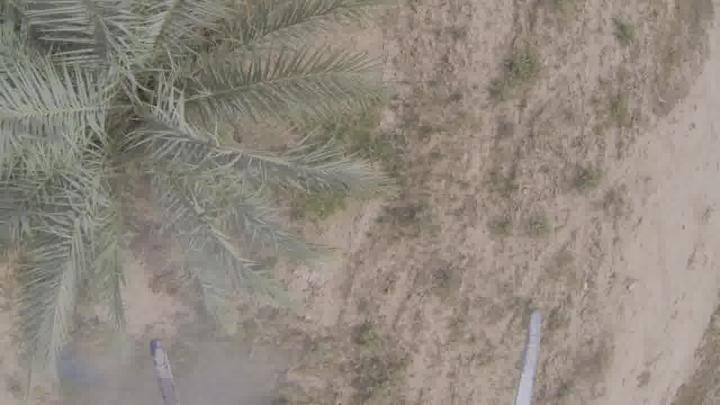Date-Palm-Crown: (0, 0, 274, 260)
